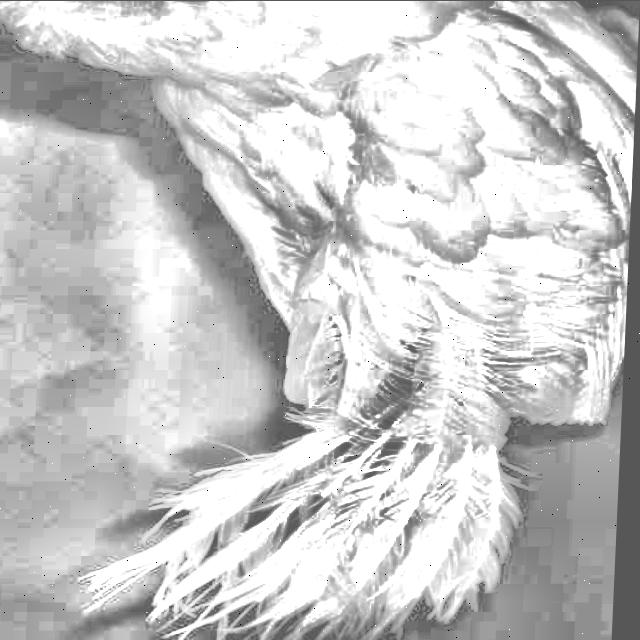Newcastle: (0, 1, 640, 616)
